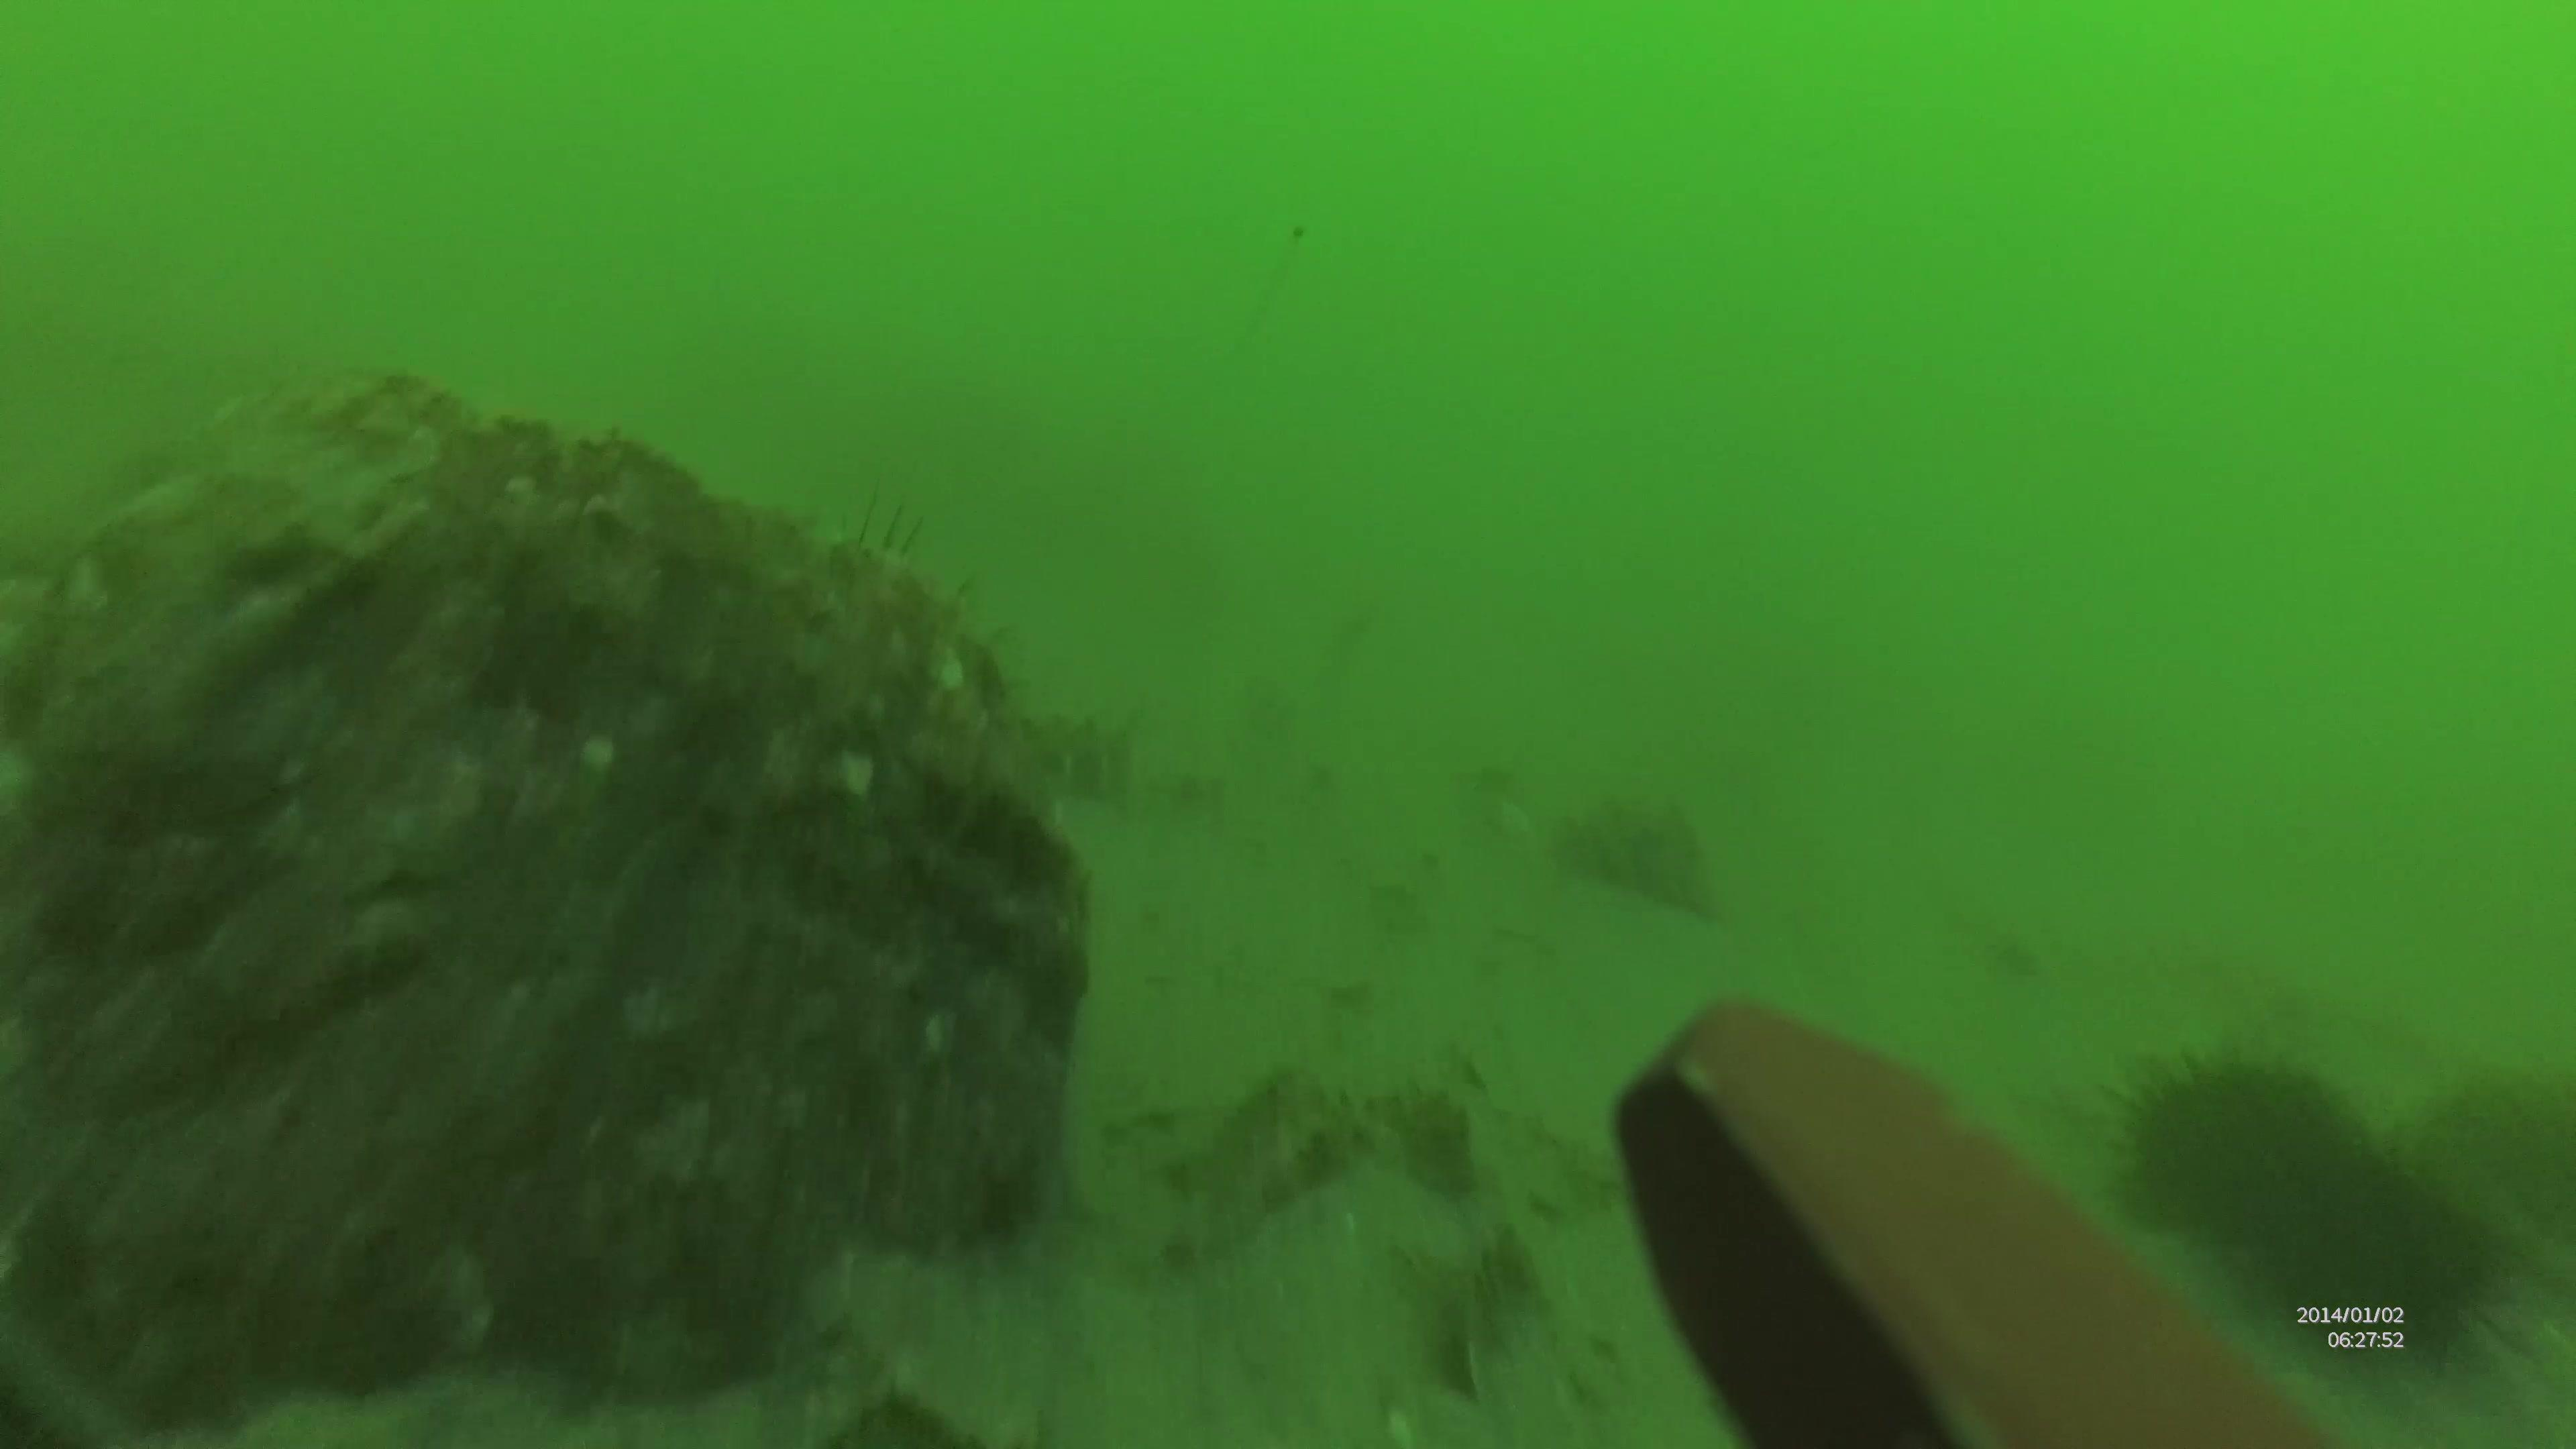echinus: (2097, 1044, 2369, 1230), (2272, 1182, 2507, 1368)
